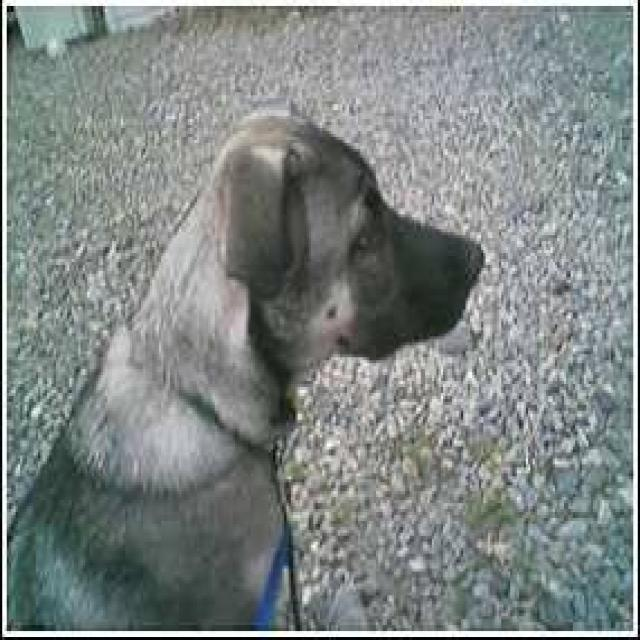dog: (4, 104, 483, 631)
